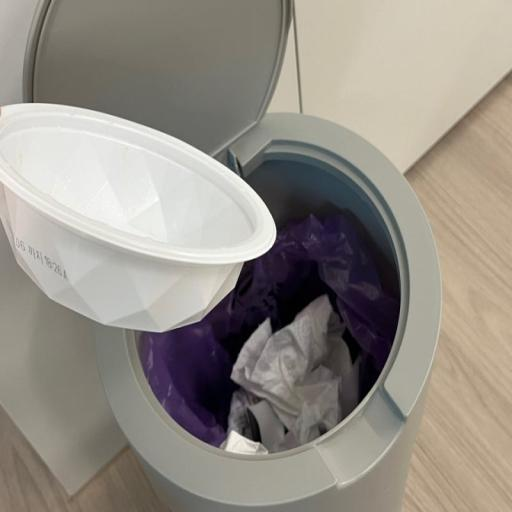paper: (221, 296, 355, 454)
plastic: (97, 115, 442, 511), (0, 103, 276, 331), (23, 0, 291, 161)
vinyl: (141, 207, 397, 442)
